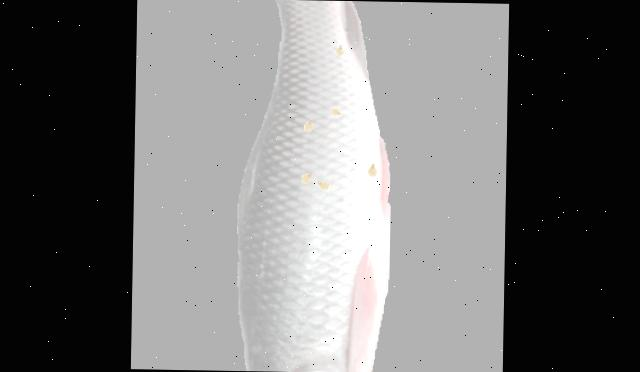Parasitic Disease: (238, 0, 390, 372)
